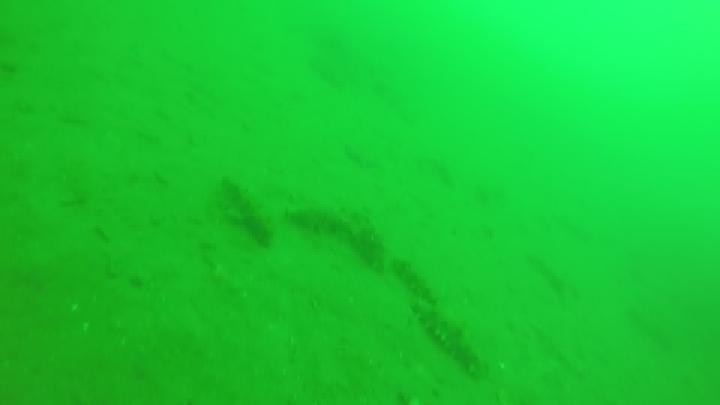holothurian: (293, 200, 385, 270), (408, 300, 480, 369), (225, 182, 277, 242), (399, 258, 443, 307)
